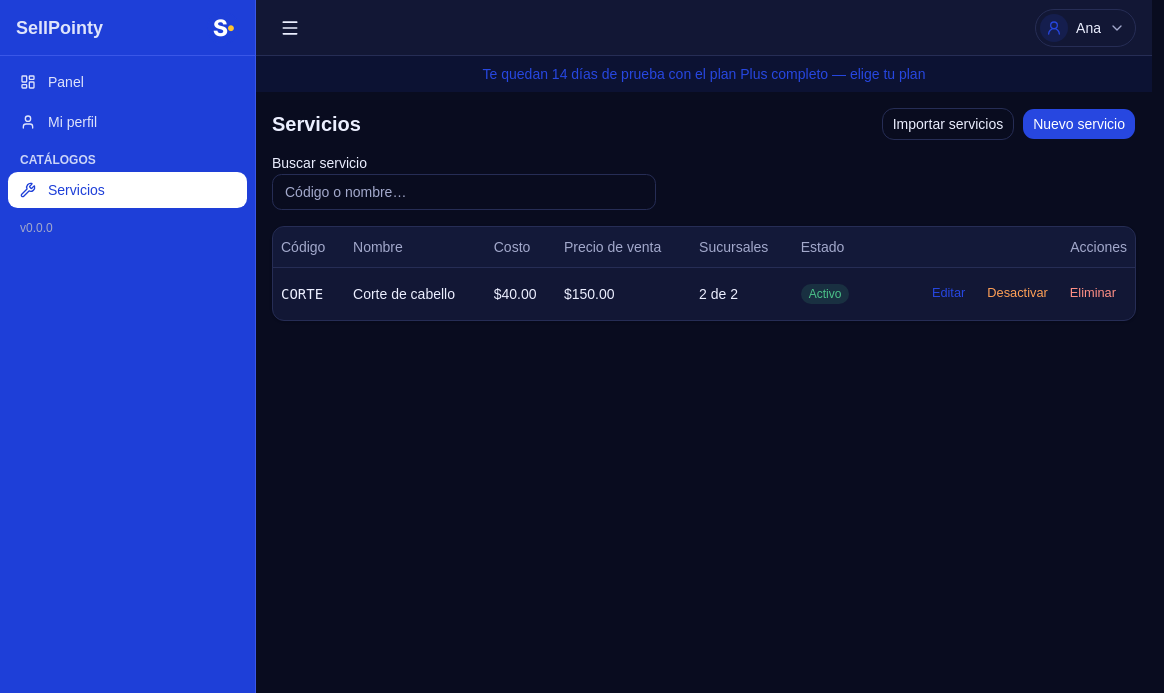
Test: Catálogo de servicios (F3-SVC-04) › la etiqueta del costo dice la base del negocio (F9-COSTMODE-10)
The image size is (1164, 693).
Expected: the text "Corte de cabello" is shown, [345,267,486,320]
Click the button "Nuevo servicio". click: (1079, 124)
box: [1022,108,1136,140]
(page scrolled)
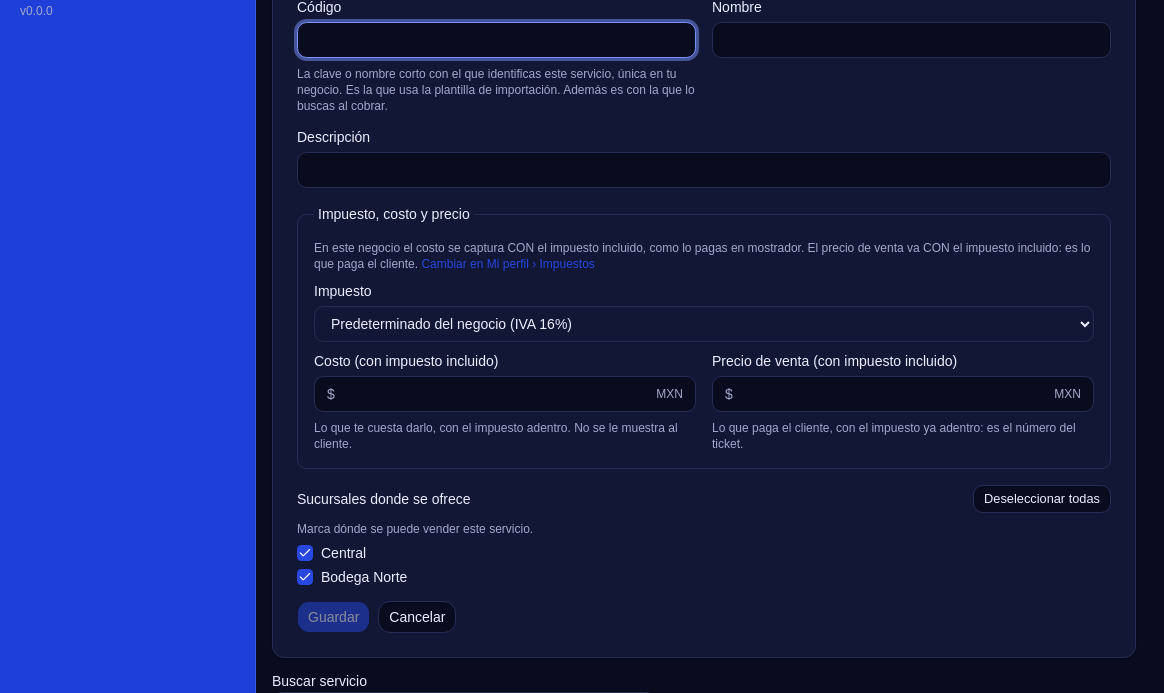
Expected: the text "con el impuesto adentro" is shown, [314,421,678,451]
